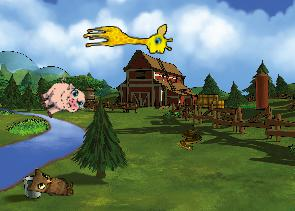giraffe: (82, 23, 173, 58)
owl: (27, 168, 74, 196)
pig: (35, 73, 89, 125)
